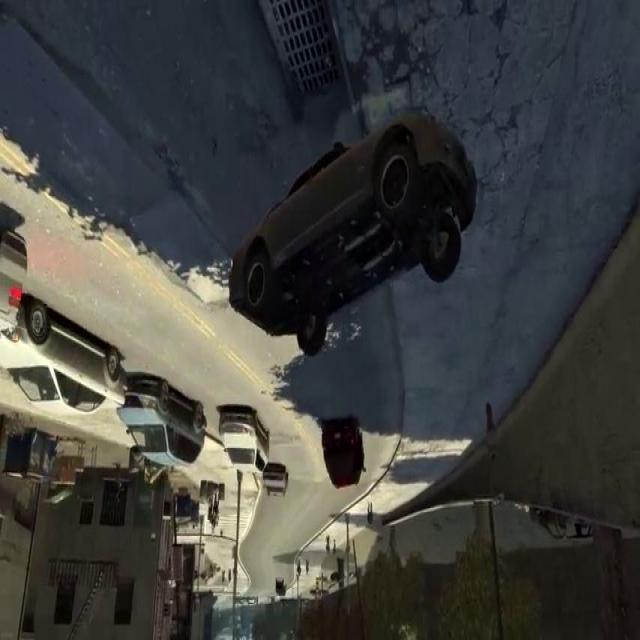severe: (225, 102, 483, 360)
